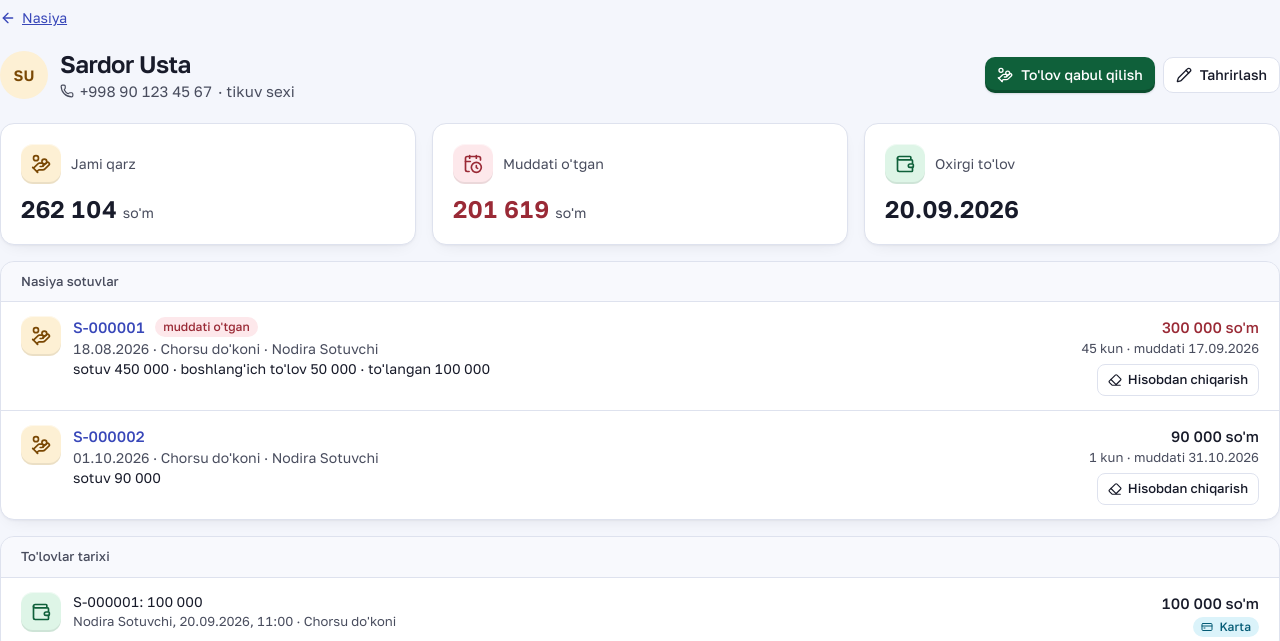
Test: Mijoz kartochkasi › hisobdan chiqarishda sabab majburiy
The width and height of the screenshot is (1280, 641).
Click the button with aria-label "S-000002: qarzni hisobdan chiqarish" at (1178, 489), box [1097,473,1259,505]
(page scrolled)
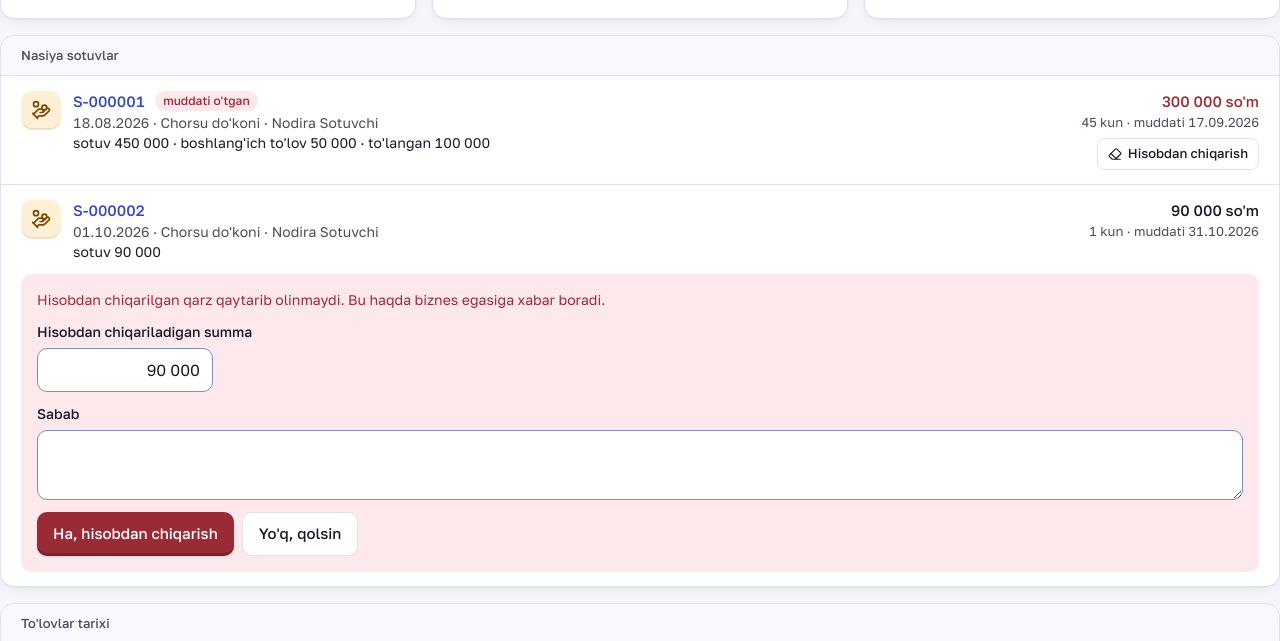
Expected: the field named "Hisobdan chiqariladigan summa" holds "90 000", [37,348,213,392]
Click the button "Ha, hisobdan chiqarish" at (135, 534), box [37,512,234,556]
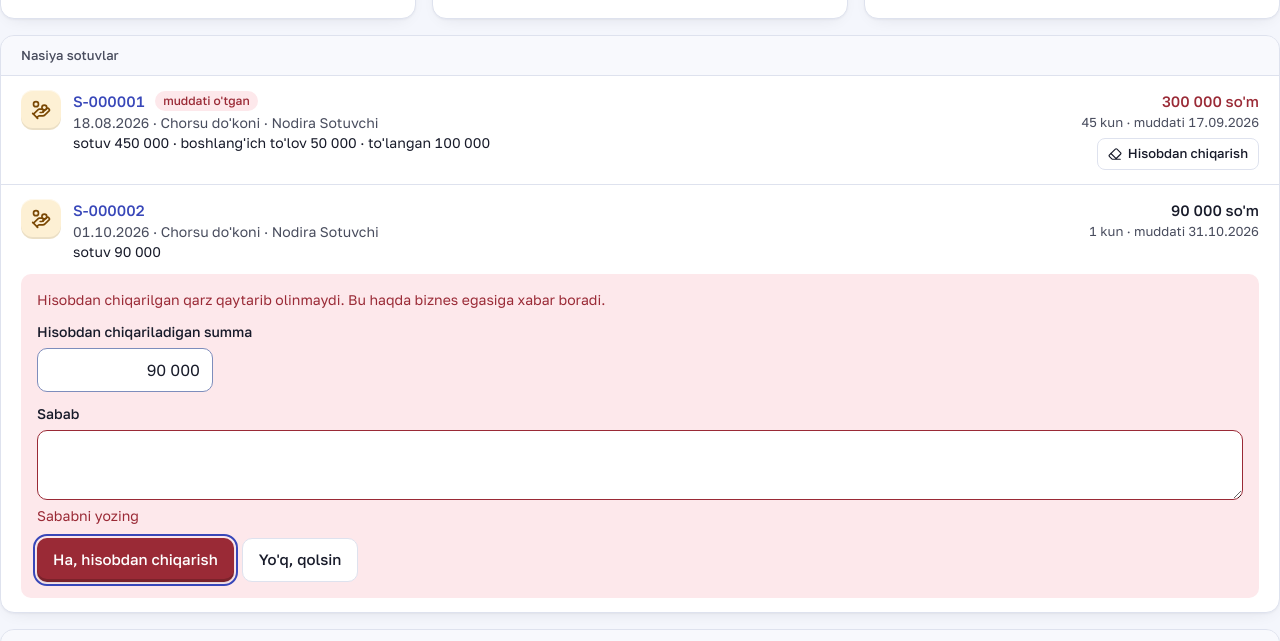
Expected: the message reads "Sababni yozing", [37,506,139,524]
Replace the text in the field named "Hisobdan chiqariladigan summa" with "10000" at (125, 370), box [37,348,213,392]
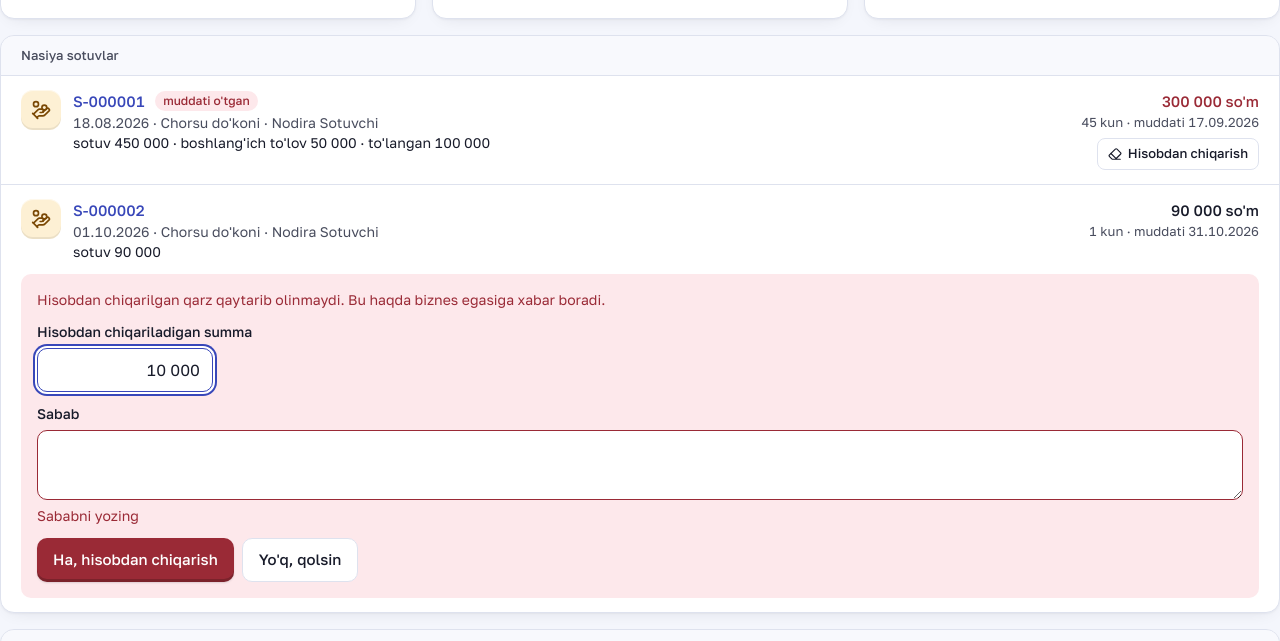
Type "Mato nuqsonli chiqdi" into the text box labelled "Sabab" at (640, 464), box [37,430,1243,500]
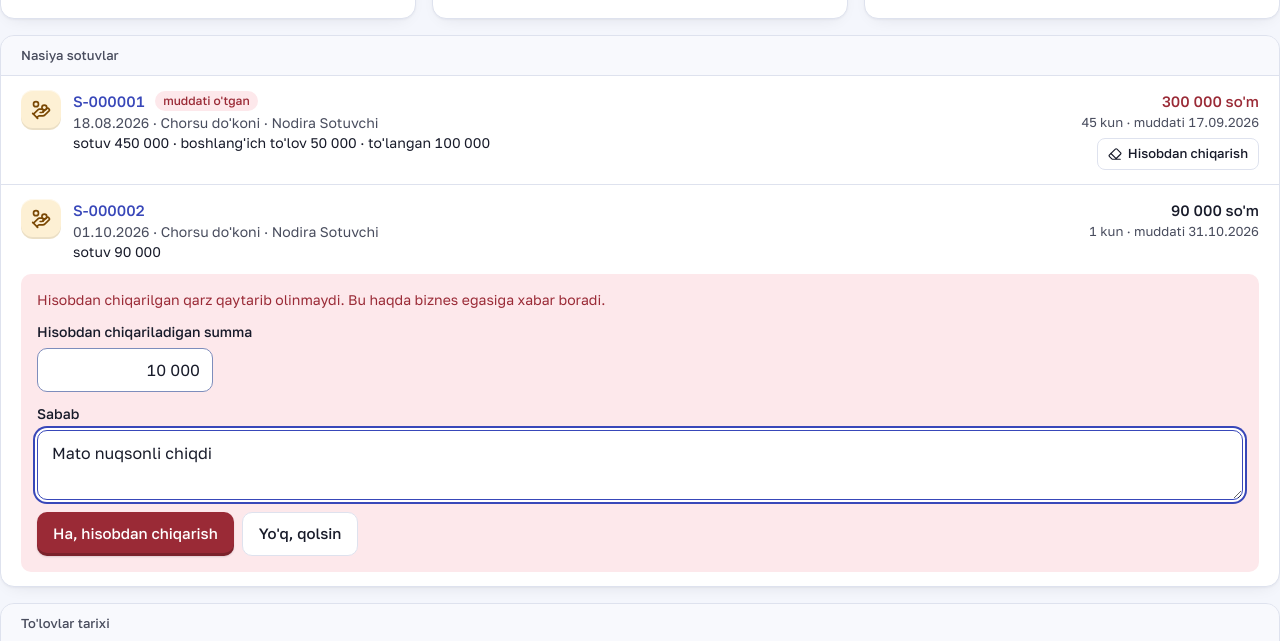
Click the button "Ha, hisobdan chiqarish" at (135, 534), box [37,512,234,556]
(page scrolled)
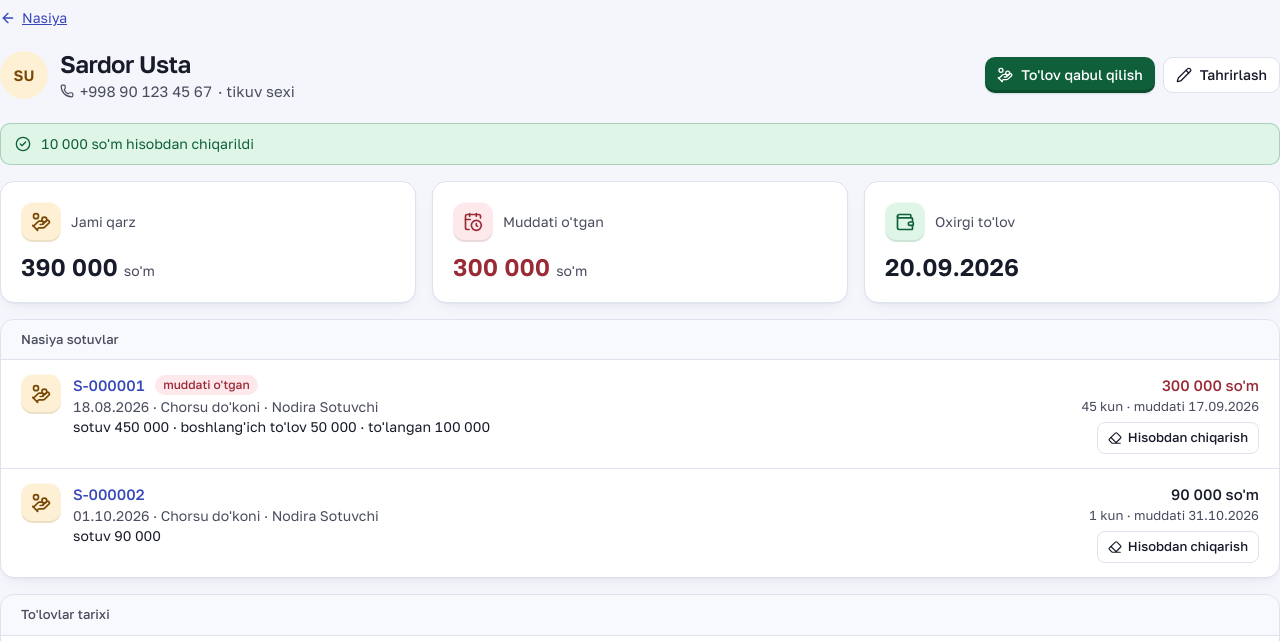
Expected: the text "10 000 so'm hisobdan chiqarildi" is shown, [41,134,254,154]
